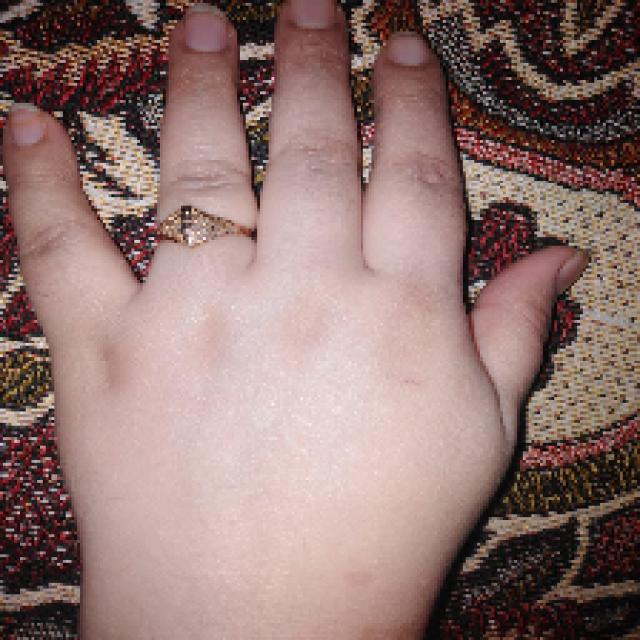Nail: (184, 4, 228, 52), (9, 104, 46, 146), (386, 32, 430, 66), (555, 251, 590, 293), (290, 0, 336, 29)
